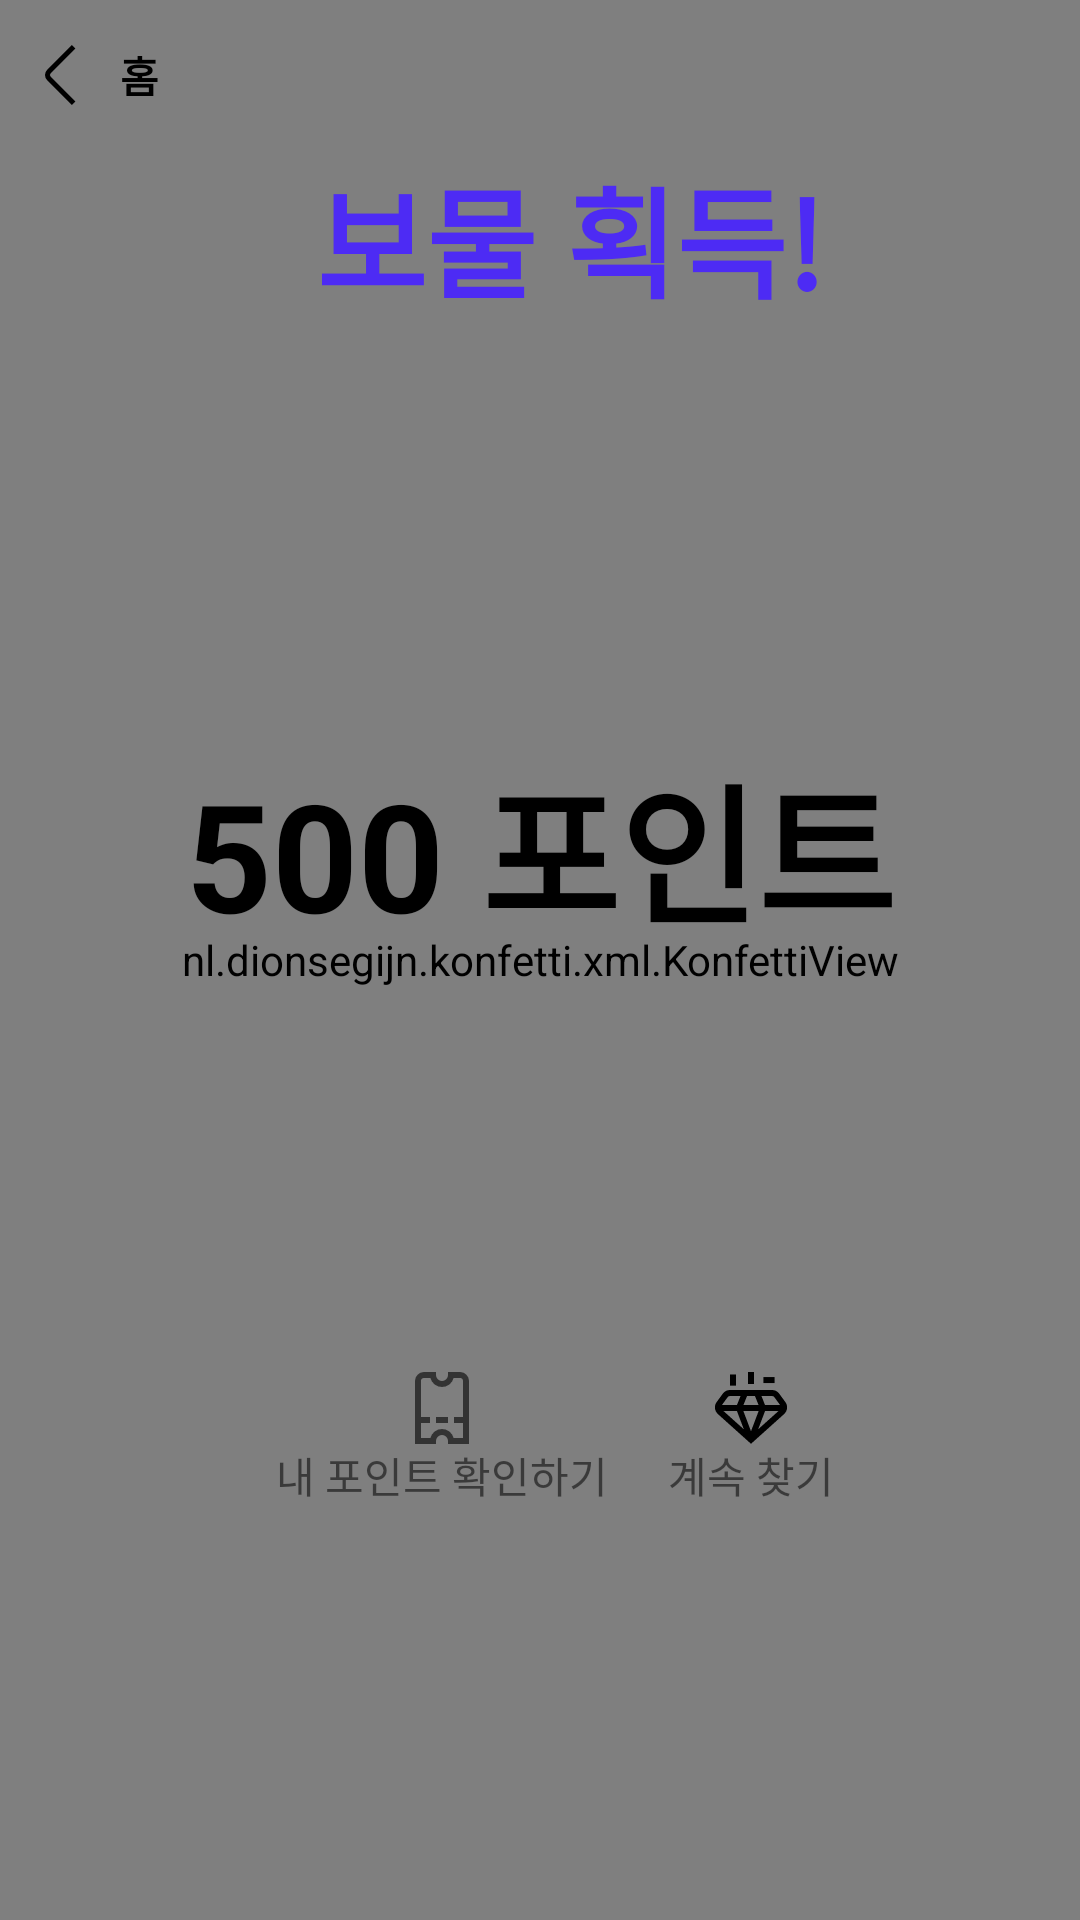

Icon bounding boxes for this 1080px×1920px phone screenshot, format Rect(x1, y1, x2, y2):
back arrow: Rect(45, 45, 75, 105)
coupon: Rect(415, 1372, 469, 1444)
